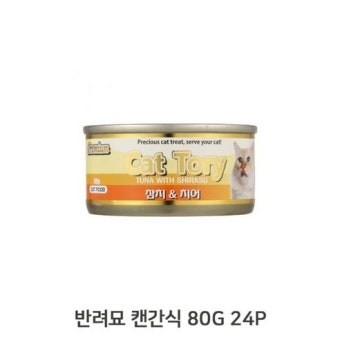paper: (82, 122, 256, 217)
